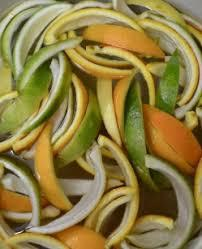Organic: (2, 1, 202, 249)
